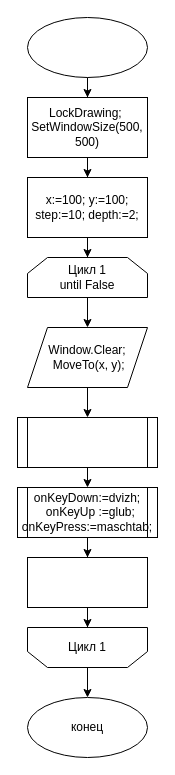
Image size: 175x775. Some labels were removed from this diagram. The shapes that lost their labels are listed below. From the top down, each one's centre as x and y in pixels, then its label:
the point at 87,47: начало
the point at 87,442: Fractal(depth, -1);
the point at 87,582: redraw; sleep(1);
